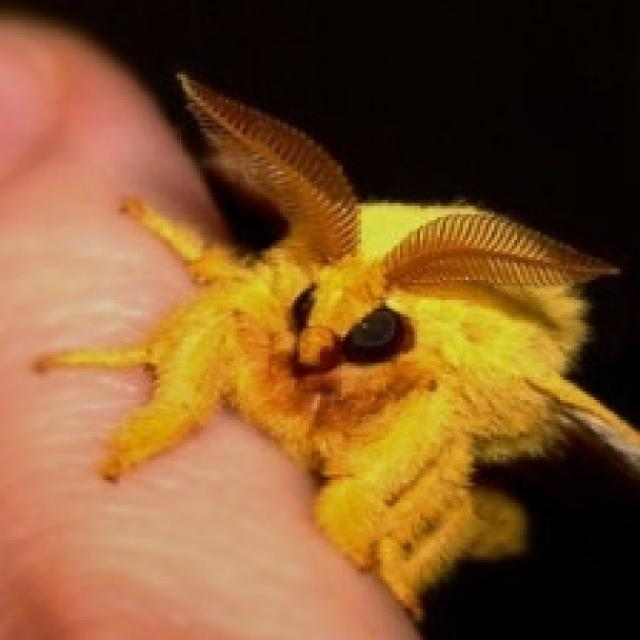butterfly: (32, 68, 637, 623)
